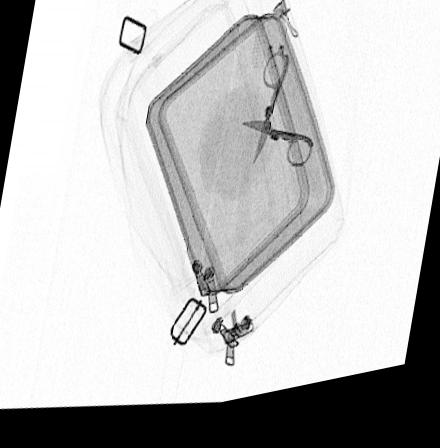Scissors: (240, 62, 312, 180)
